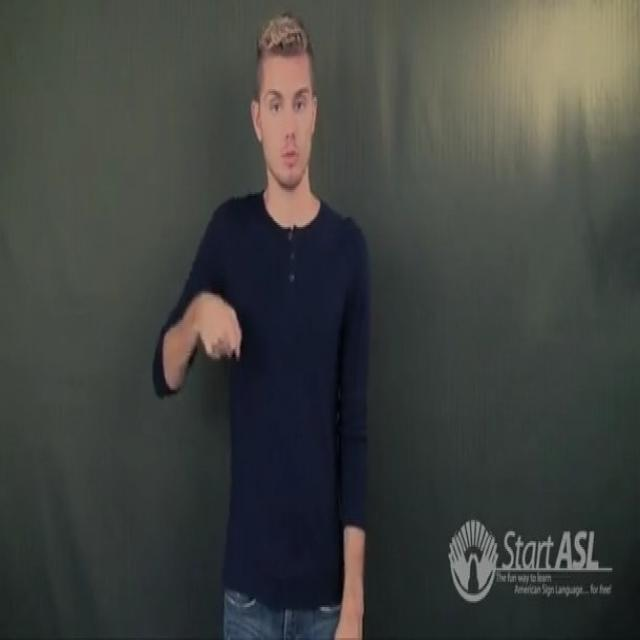bag: (148, 272, 253, 406)
